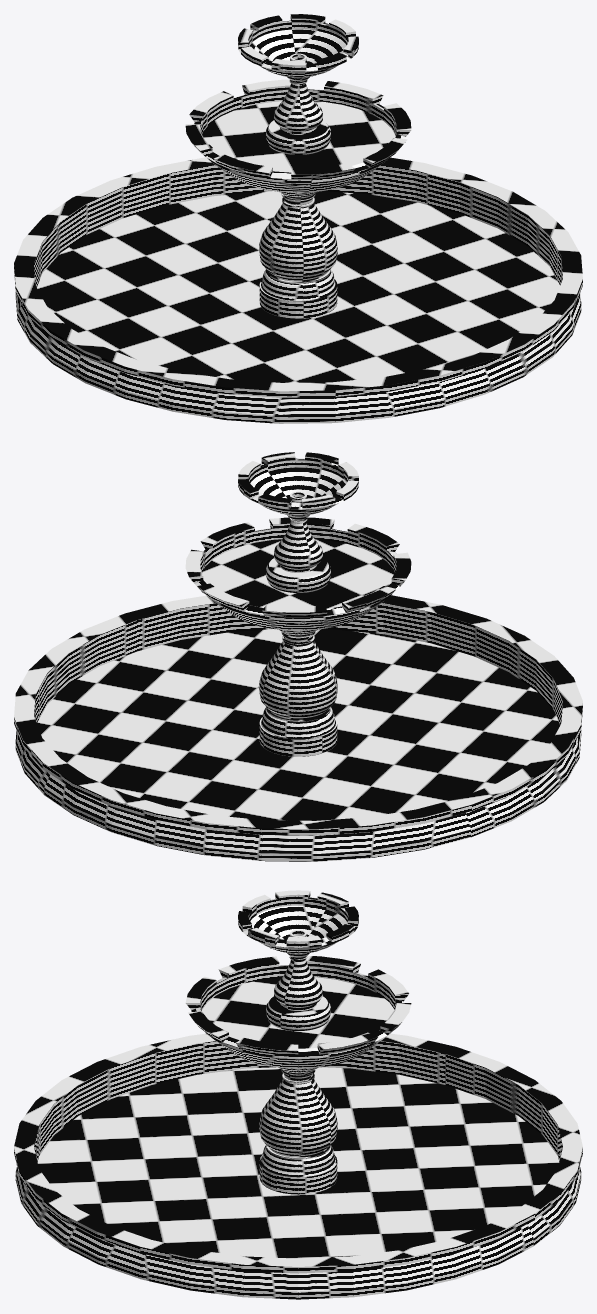
The model's file is Solbourg_Fontaine.fbx.
The picture shows the model from 3 angles, top to bottom: view 1: azimuth 30°, elevation 25°; view 2: azimuth 150°, elevation 25°; view 3: azimuth 270°, elevation 25°; orthographic projection.
Visible parts, largest first — view 1: Fontaine; view 2: Fontaine; view 3: Fontaine.
Boxes of the visible parts, x1=… form: Fontaine: x1=14, y1=14, x2=582, y2=423; Fontaine: x1=14, y1=452, x2=582, y2=861; Fontaine: x1=14, y1=890, x2=582, y2=1299.
Bounding box in the file's own units: 2514 × 1307 × 2514.
1 material, 1 textured.
